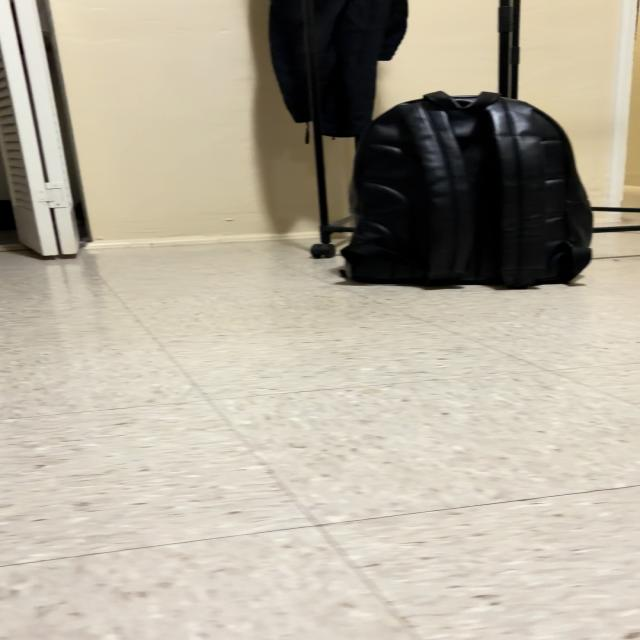backpack: (343, 92, 592, 287)
